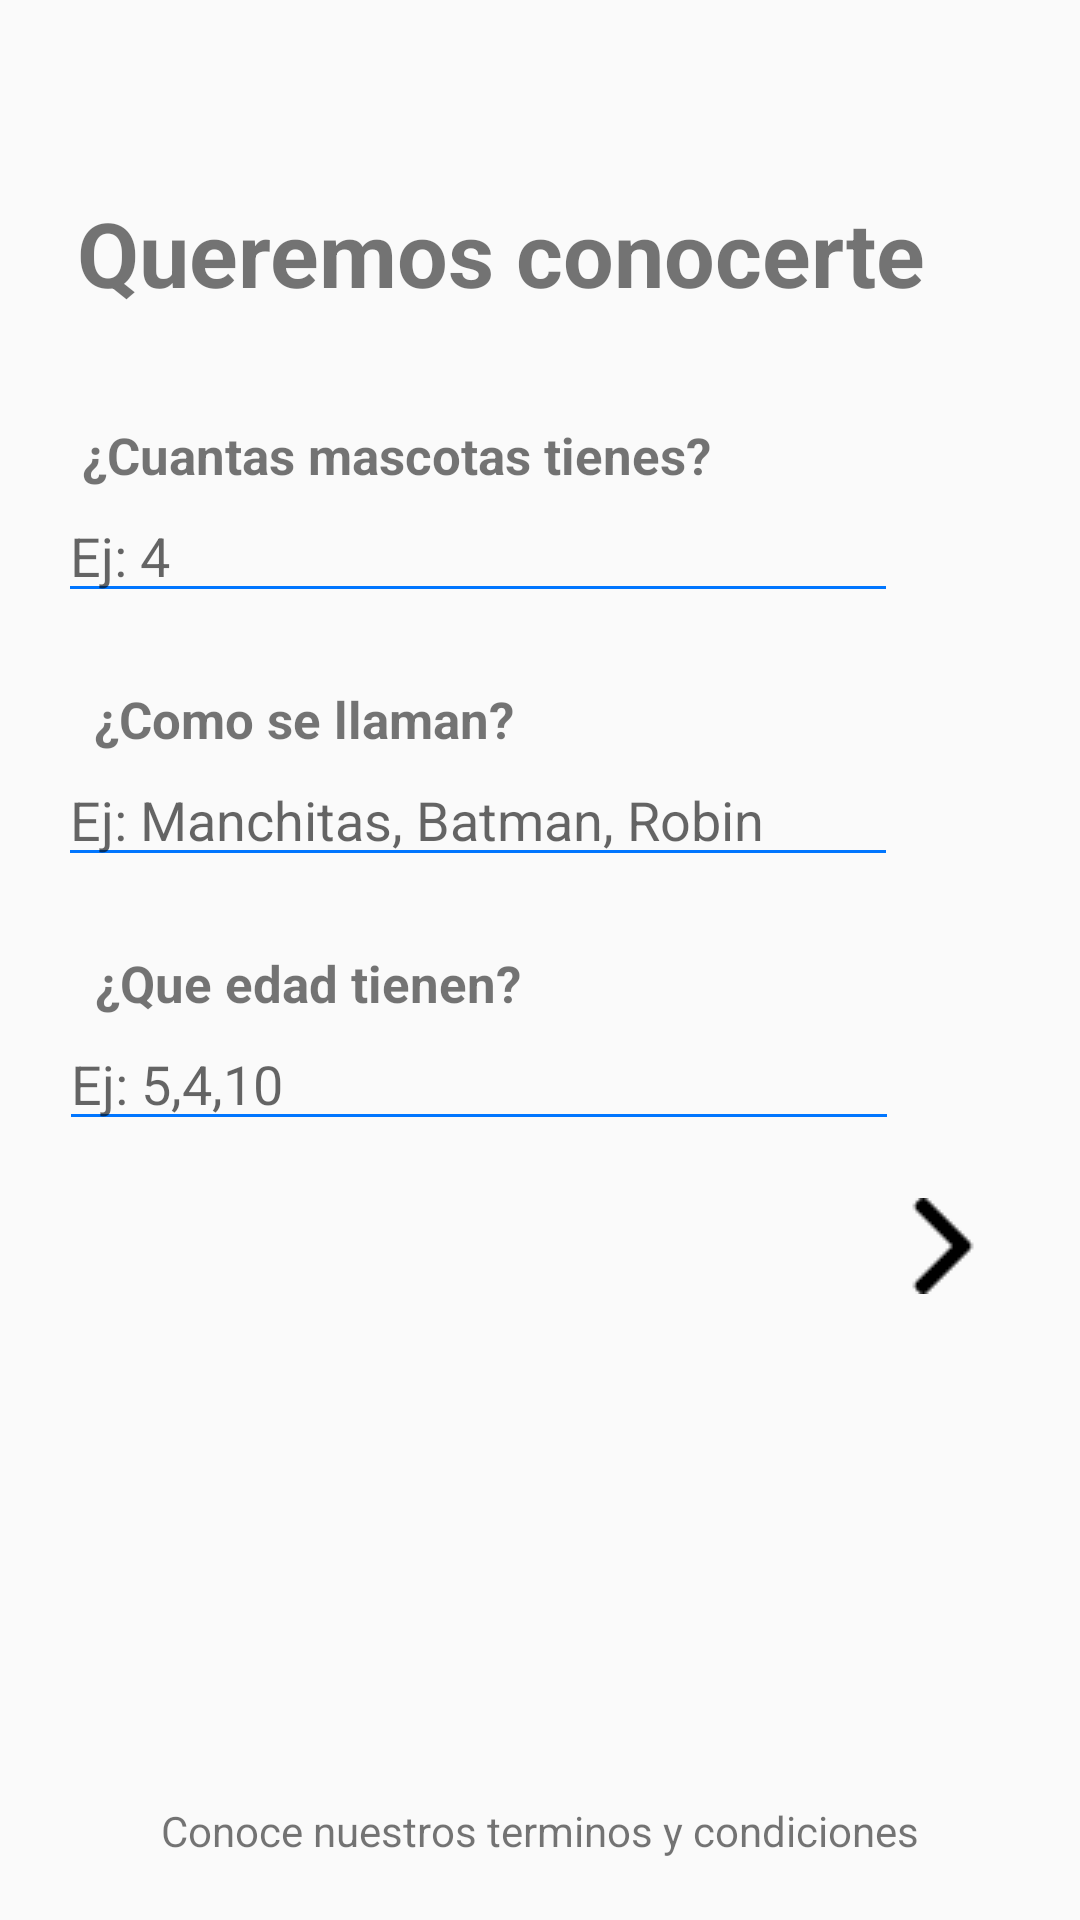

Locate icon controls on the screen. Image size 1080w x 1920h, boxes as (x1, y1, x2, y2).
flecha: (912, 1198, 973, 1294)
